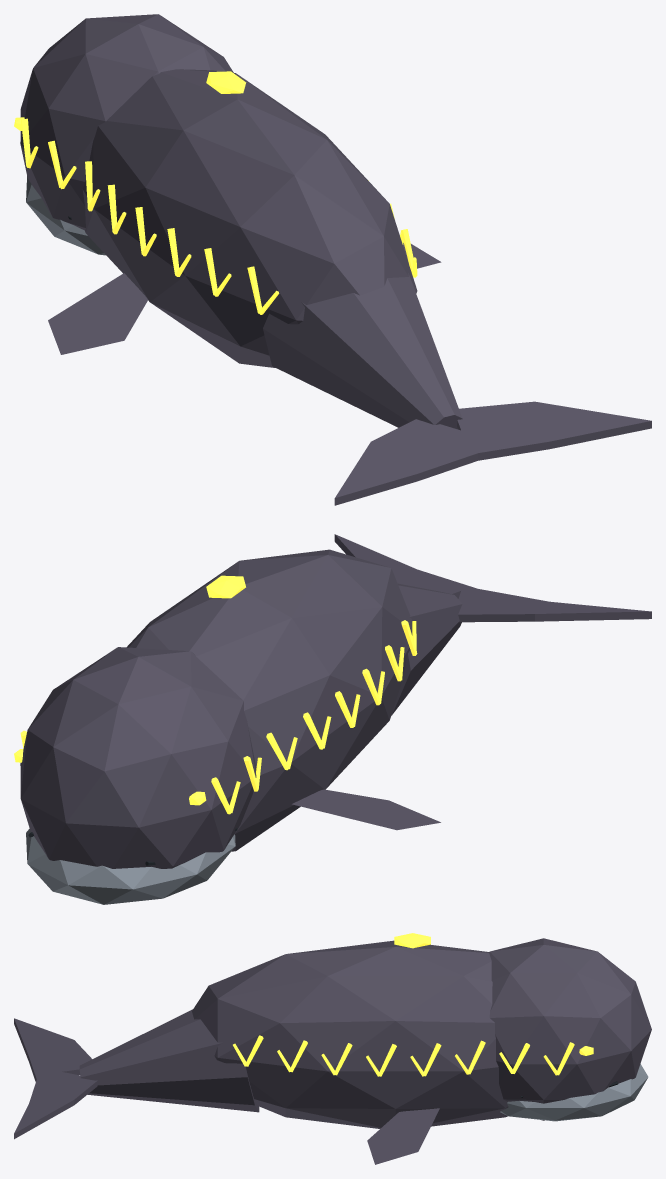
The model's file is MutatedBowheadWhale.fbx.
3 renders of one model, top to bottom at view 1: azimuth 30°, elevation 25°; view 2: azimuth 150°, elevation 25°; view 3: azimuth 270°, elevation 25°, orthographic. The views are drawn at different scales.
Visible parts, largest first — view 1: Body, Head, TailPeduncle, TailFluke, FlipperSurface1, LowerJaw, BlowholeRim; view 2: Head, Body, LowerJaw, TailFluke, TailPeduncle, FlipperSurface1, BlowholeRim; view 3: Body, Head, TailPeduncle, TailFluke, LowerJaw, FlipperSurface-1, BlowholeRim.
Boxes of the visible parts, left/top/right/bottom form: Body: left=82, top=69, right=417, bottom=367; Head: left=20, top=14, right=233, bottom=230; TailPeduncle: left=263, top=273, right=462, bottom=429; TailFluke: left=334, top=401, right=651, bottom=505; FlipperSurface1: left=48, top=273, right=147, bottom=354; LowerJaw: left=26, top=176, right=105, bottom=255; BlowholeRim: left=206, top=71, right=246, bottom=93; Head: left=20, top=647, right=256, bottom=868; Body: left=127, top=549, right=417, bottom=851; LowerJaw: left=26, top=829, right=235, bottom=904; TailFluke: left=334, top=534, right=651, bottom=622; TailPeduncle: left=391, top=583, right=462, bottom=715; FlipperSurface1: left=292, top=789, right=440, bottom=830; BlowholeRim: left=206, top=575, right=245, bottom=598; Body: left=192, top=940, right=508, bottom=1128; Head: left=488, top=938, right=651, bottom=1120; TailPeduncle: left=79, top=1009, right=259, bottom=1112; TailFluke: left=14, top=1018, right=97, bottom=1139; LowerJaw: left=500, top=1064, right=648, bottom=1121; FlipperSurface-1: left=367, top=1108, right=439, bottom=1164; BlowholeRim: left=394, top=933, right=430, bottom=948.
Size of the model in its own units: 3.89 by 2.46 by 7.56.
